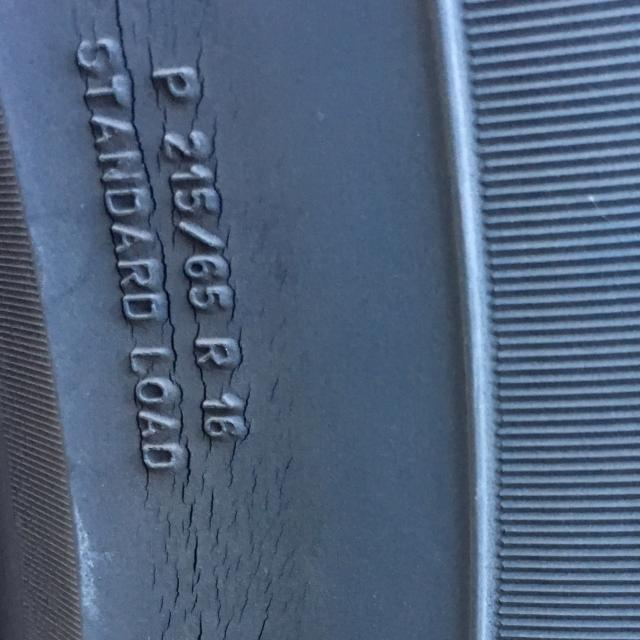Cracks: (54, 0, 343, 640)
Non-defective: (370, 0, 640, 640)
